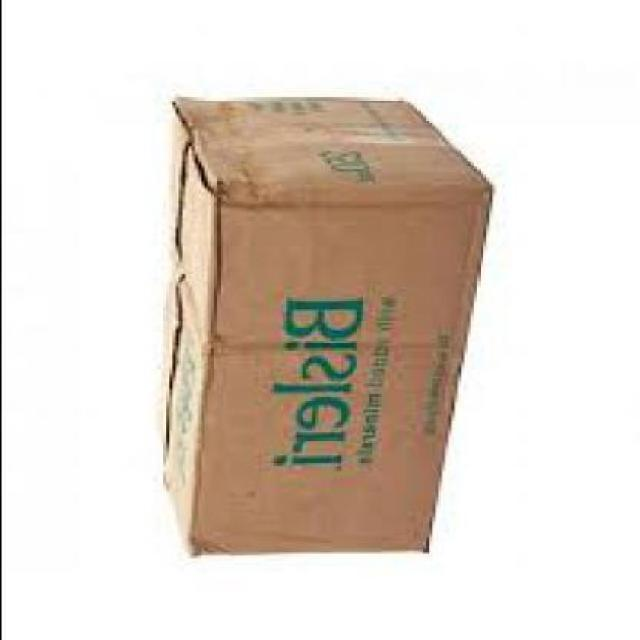box: (155, 95, 491, 551)
